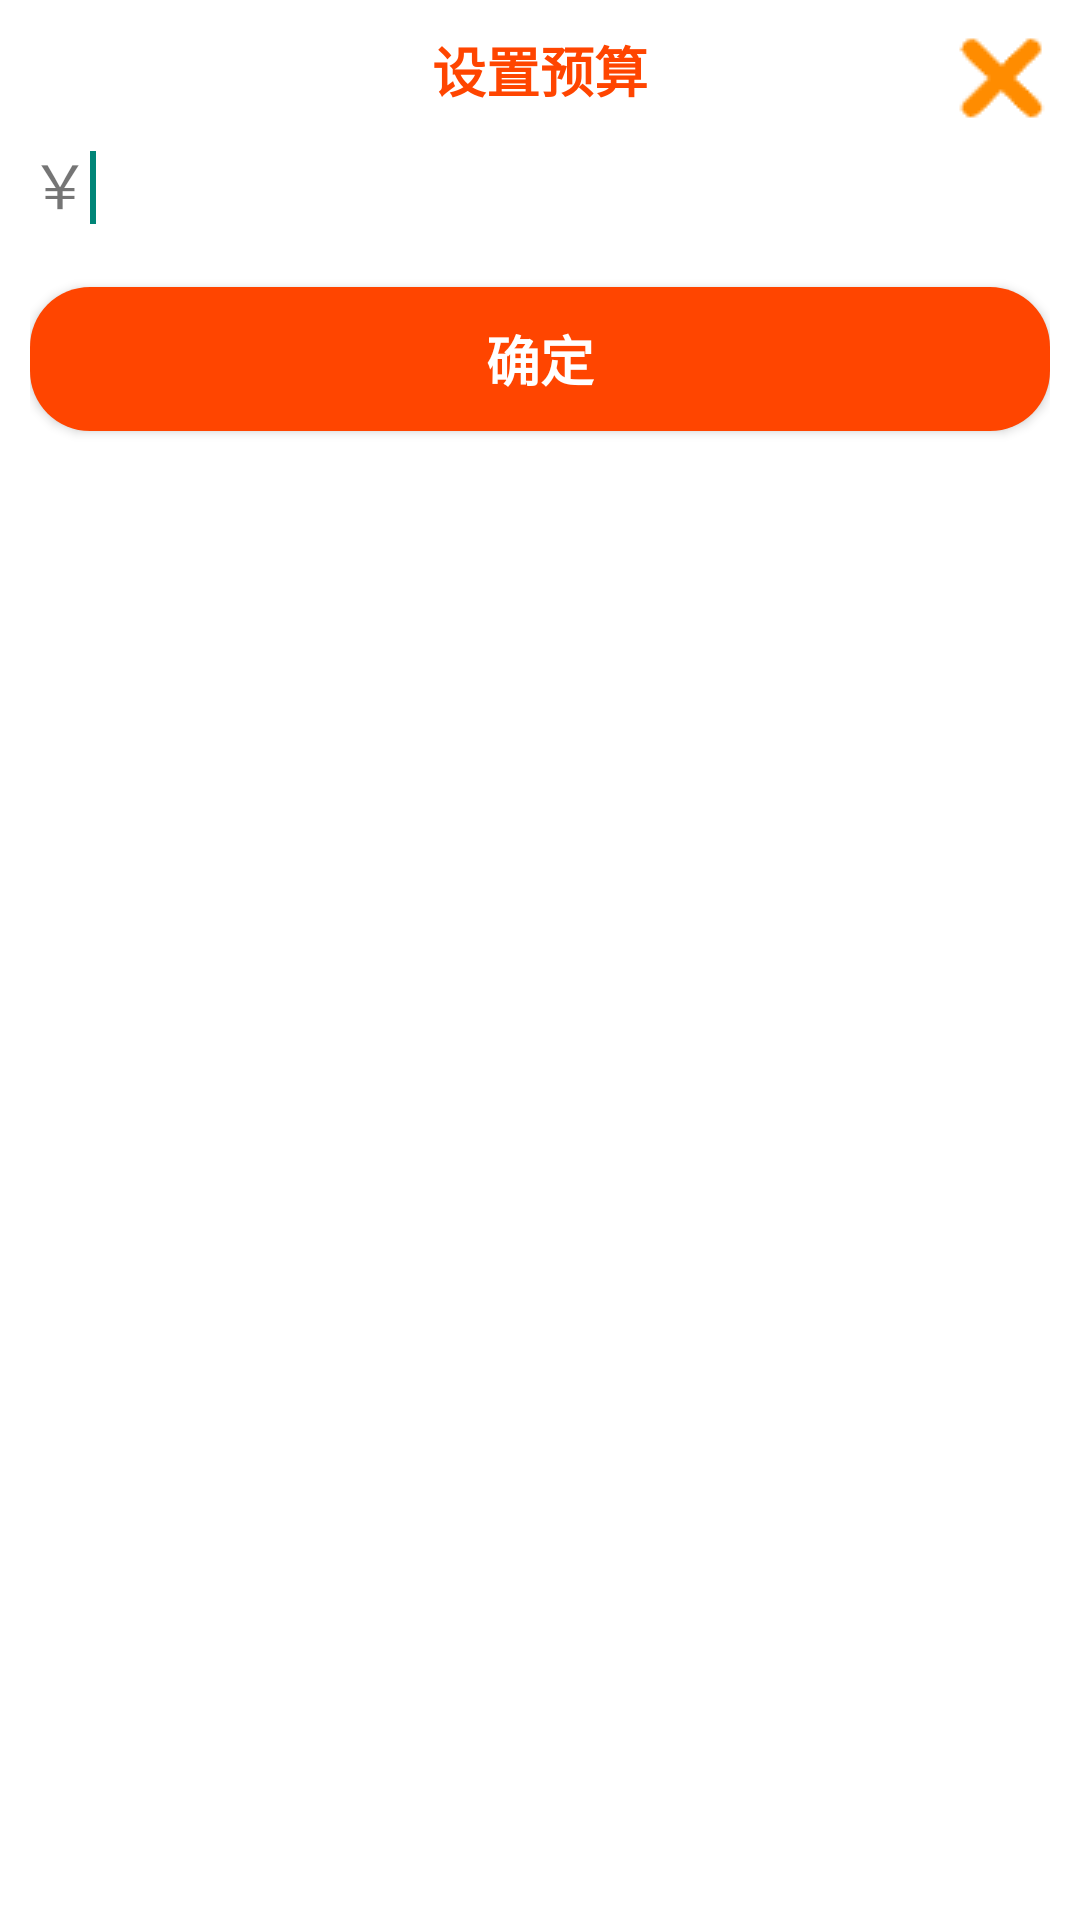

Locate icon controls on the screen. Image size 1080 x 1920, boxes as {"x1": x1, "y1": y1, "x2": x2, "y2": y2}.
wrong: {"x1": 959, "y1": 38, "x2": 1044, "y2": 118}
